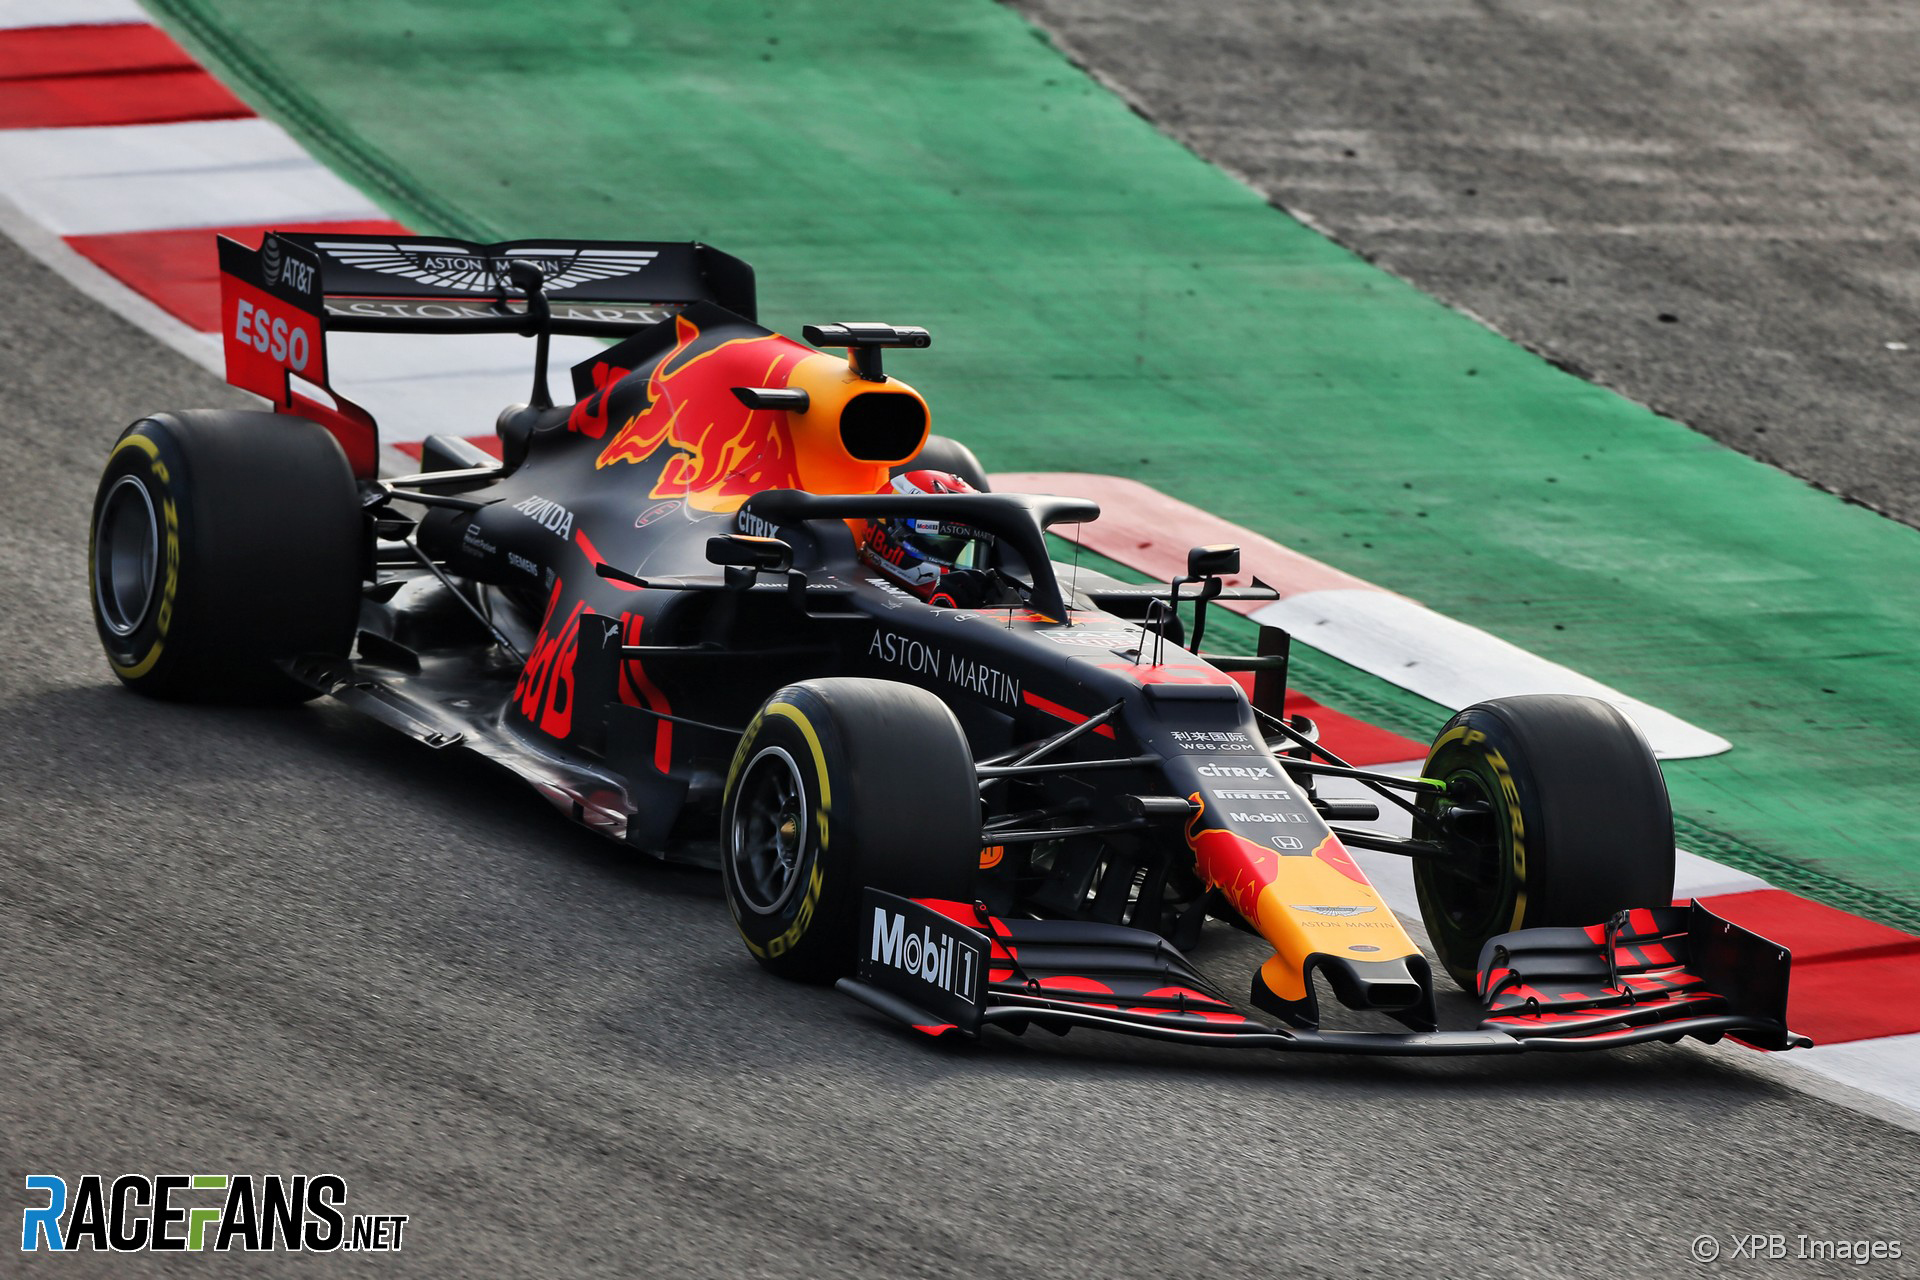F1 Car: (77, 214, 1829, 1071)
